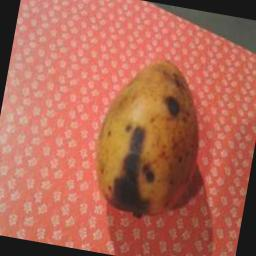Mango Overripe: (83, 46, 223, 228)
